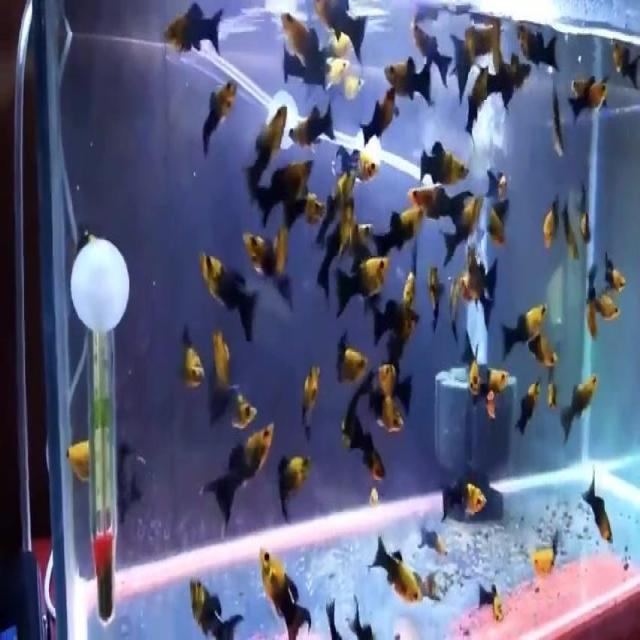PlatyFish: (192, 407, 277, 544), (194, 234, 264, 350), (248, 534, 314, 640), (236, 100, 290, 209), (365, 526, 428, 615), (326, 246, 397, 323), (493, 284, 556, 359), (154, 0, 229, 61), (273, 438, 320, 526), (418, 131, 480, 197), (578, 452, 617, 551), (194, 76, 245, 151), (433, 468, 493, 528), (384, 43, 438, 102)
